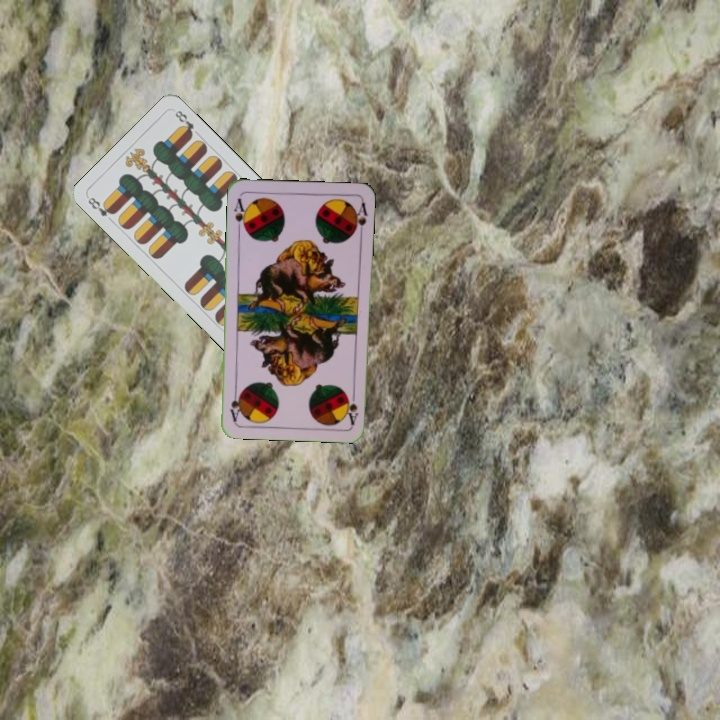E8: (84, 193, 118, 219)
SA: (229, 194, 249, 234), (343, 386, 360, 427)
